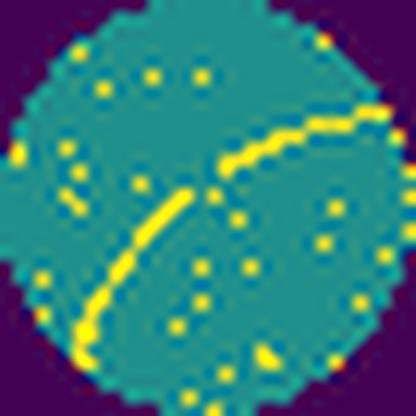Scratch: (70, 183, 199, 372), (214, 101, 391, 183)
